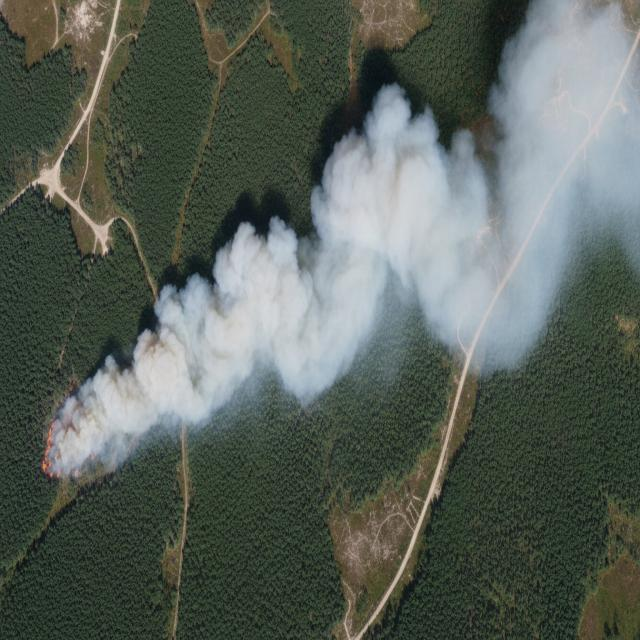wildfire: (43, 310, 191, 500)
